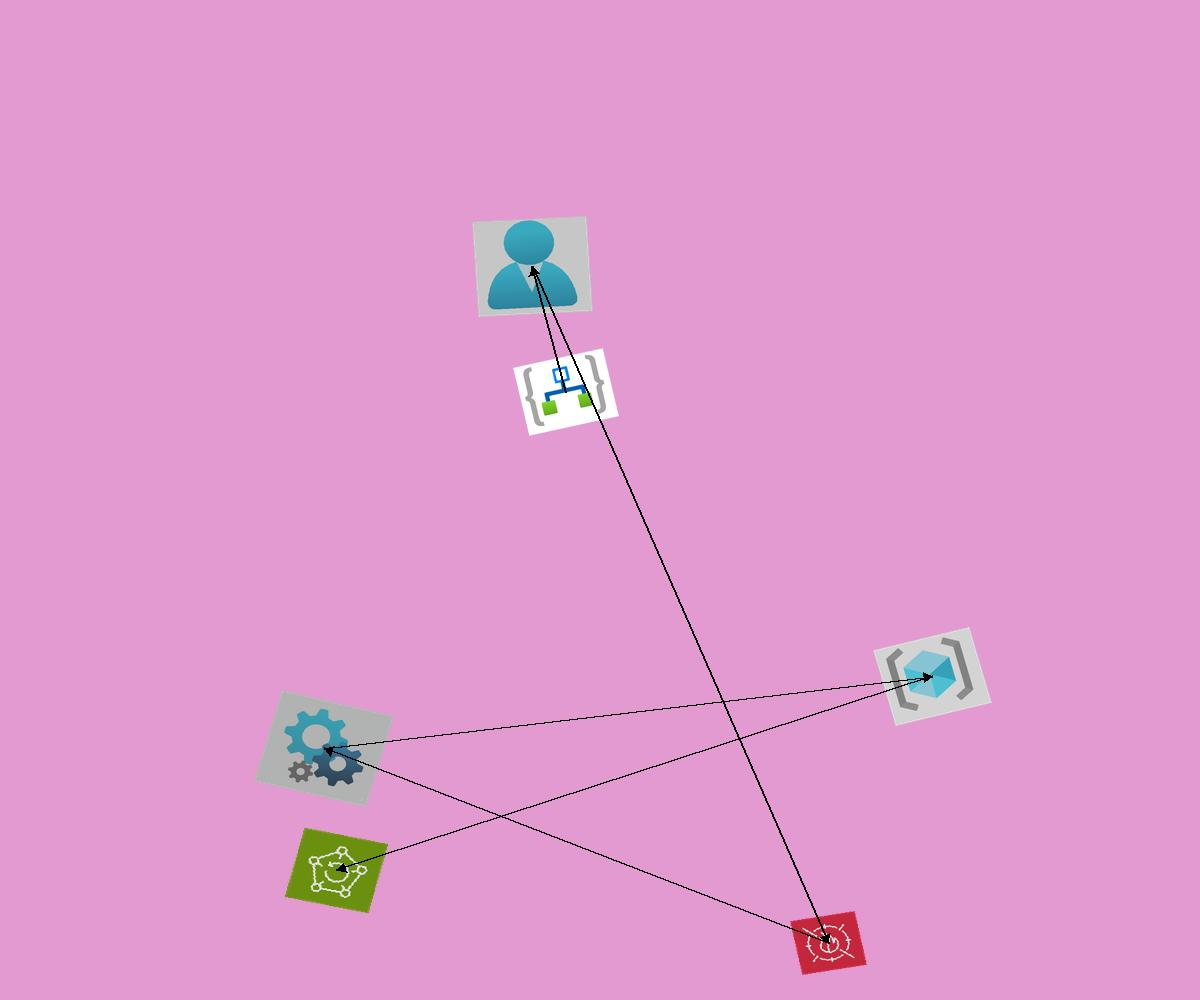AWS-Backup: (284, 827, 389, 914)
AWS-WAF: (790, 911, 867, 975)
Azure_api: (254, 690, 394, 807)
Azure_integration-204-Logic-Apps: (513, 348, 619, 436)
Azure_resource_group: (873, 627, 992, 726)
Azure_users: (472, 216, 593, 317)
